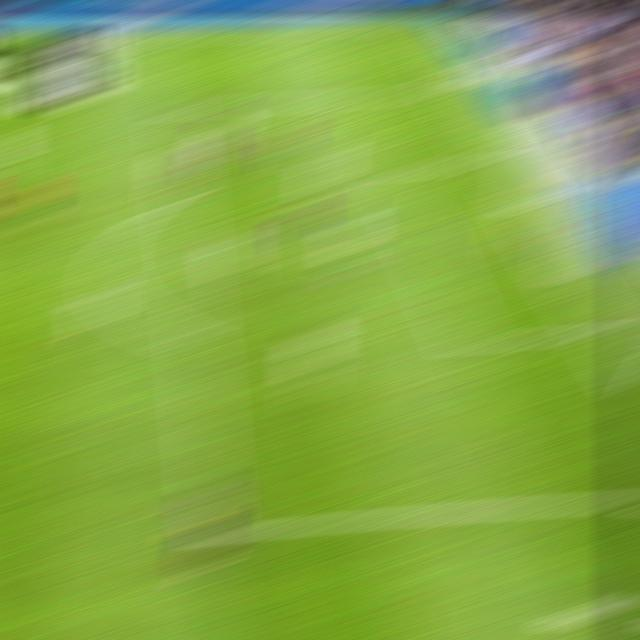bigarea_top_inner: (377, 164, 410, 178)
bigarea_top_outter: (435, 84, 466, 94)
corner: (393, 18, 426, 24)
smallarea_bottom_inner: (450, 327, 487, 354)
smallarea_bottom_outter: (583, 318, 618, 343)
smallarea_top_inner: (157, 103, 189, 114)
smallarea_top_outter: (478, 153, 509, 167)
